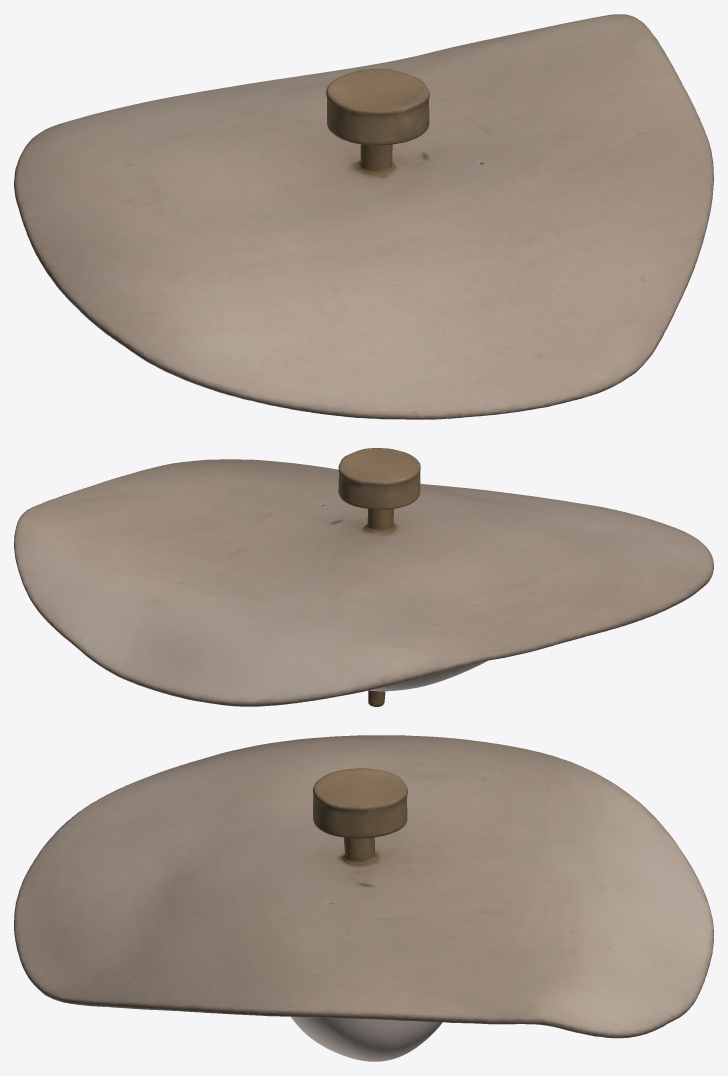
Rendered from Lamp [IKoecR].glb.
3 renders of one model, top to bottom at view 1: azimuth 30°, elevation 25°; view 2: azimuth 150°, elevation 25°; view 3: azimuth 270°, elevation 25°, orthographic. The views are drawn at different scales.
Visible parts, largest first — view 1: world; view 2: world; view 3: world.
Part boxes in pixels (bbox=[...]): world: bbox=[14, 14, 713, 419]; world: bbox=[14, 448, 713, 706]; world: bbox=[14, 735, 713, 1061].
Bounding box in the file's own units: 1 × 0.4107 × 0.9599.
1 material, 1 textured.
